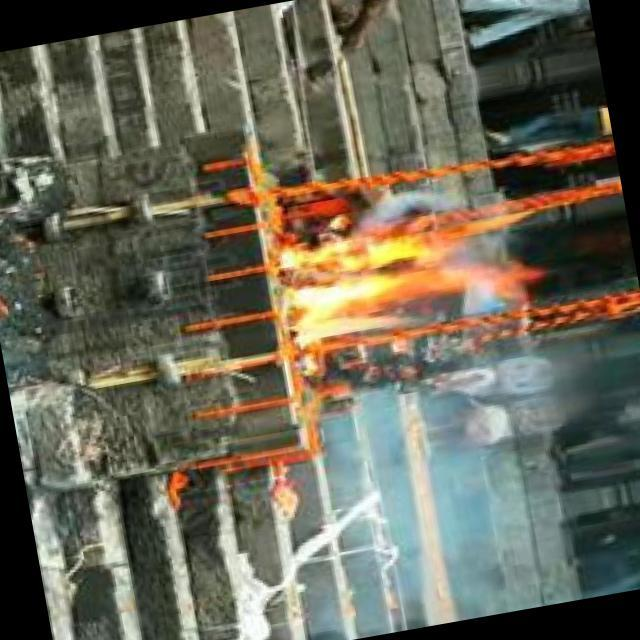Fire: (267, 204, 520, 359)
